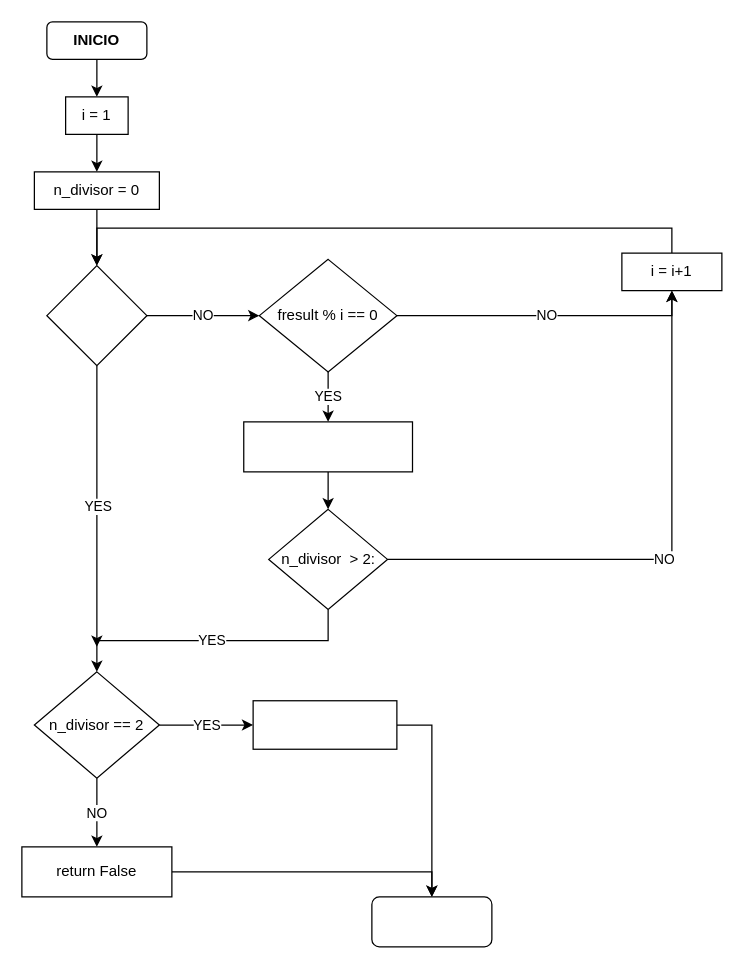
Some shapes in this 744 by 969 pixel diagram are drawn without their labels. Here are the shapes that lost their labels. From the top down, the box of each, then its label:
(46, 264, 147, 366): i <= fresult
(242, 421, 412, 472): n_divisor = n_divisor+1
(252, 700, 397, 749): return True
(371, 896, 492, 947): FIN
